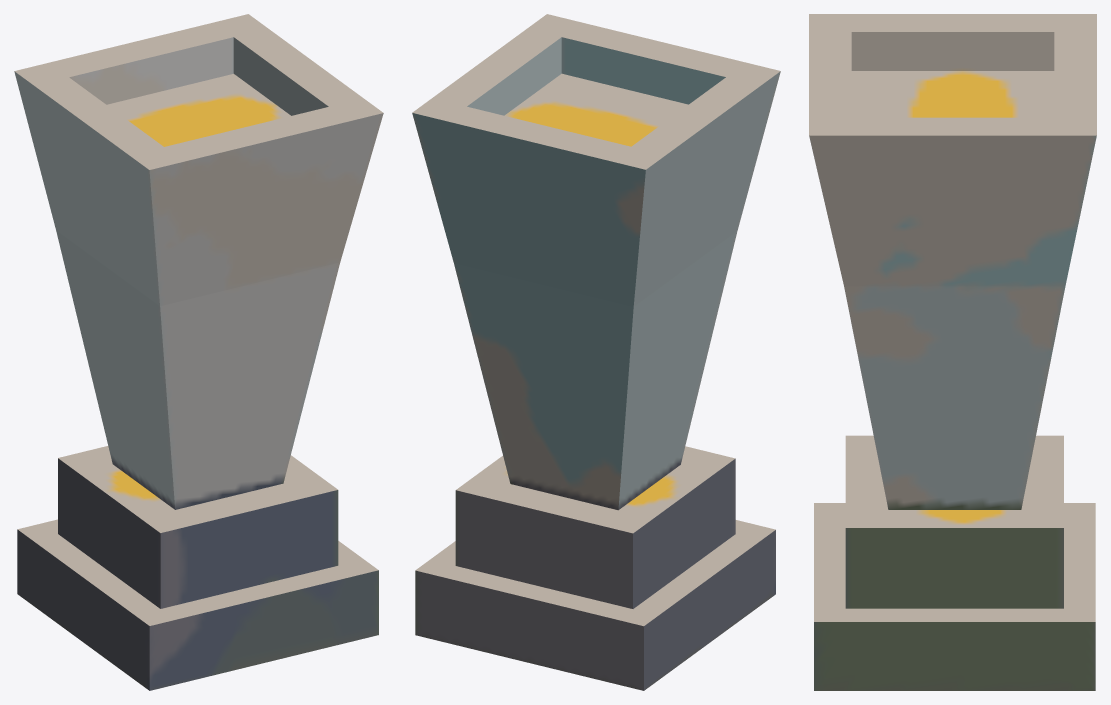
The model's file is weapons platform.fbx.
3 renders of one model, left to right at view 1: azimuth 30°, elevation 25°; view 2: azimuth 150°, elevation 25°; view 3: azimuth 270°, elevation 25°, orthographic. The views are drawn at different scales.
Parts seen in each view (by area): view 1: weapons platform; view 2: weapons platform; view 3: weapons platform.
Part boxes in pixels (x1,y1,x2,y2): weapons platform: (14,14,383,690); weapons platform: (412,14,780,690); weapons platform: (809,14,1096,690).
Size of the model in its own units: 71.38 by 152 by 71.38.
1 material, 1 textured.
